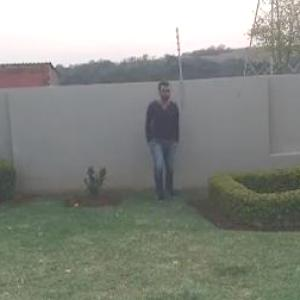follow: (140, 74, 181, 209)
